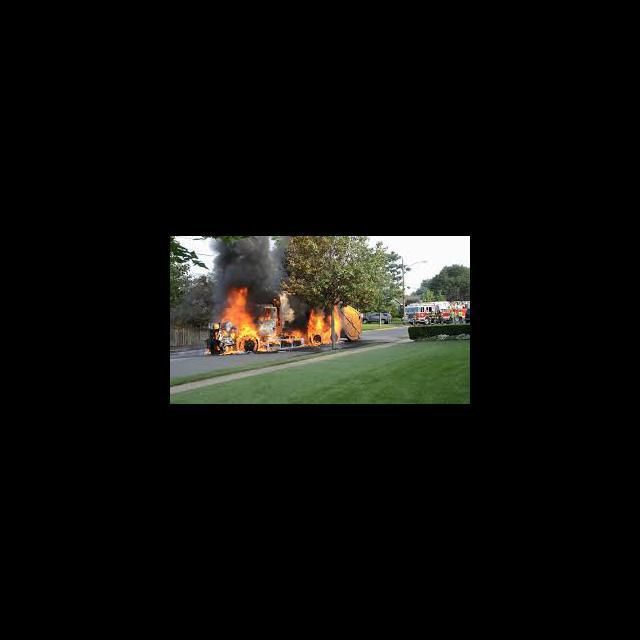Fire: (219, 287, 263, 354), (305, 301, 363, 347), (268, 326, 304, 344)
Smoke: (209, 238, 282, 286)
